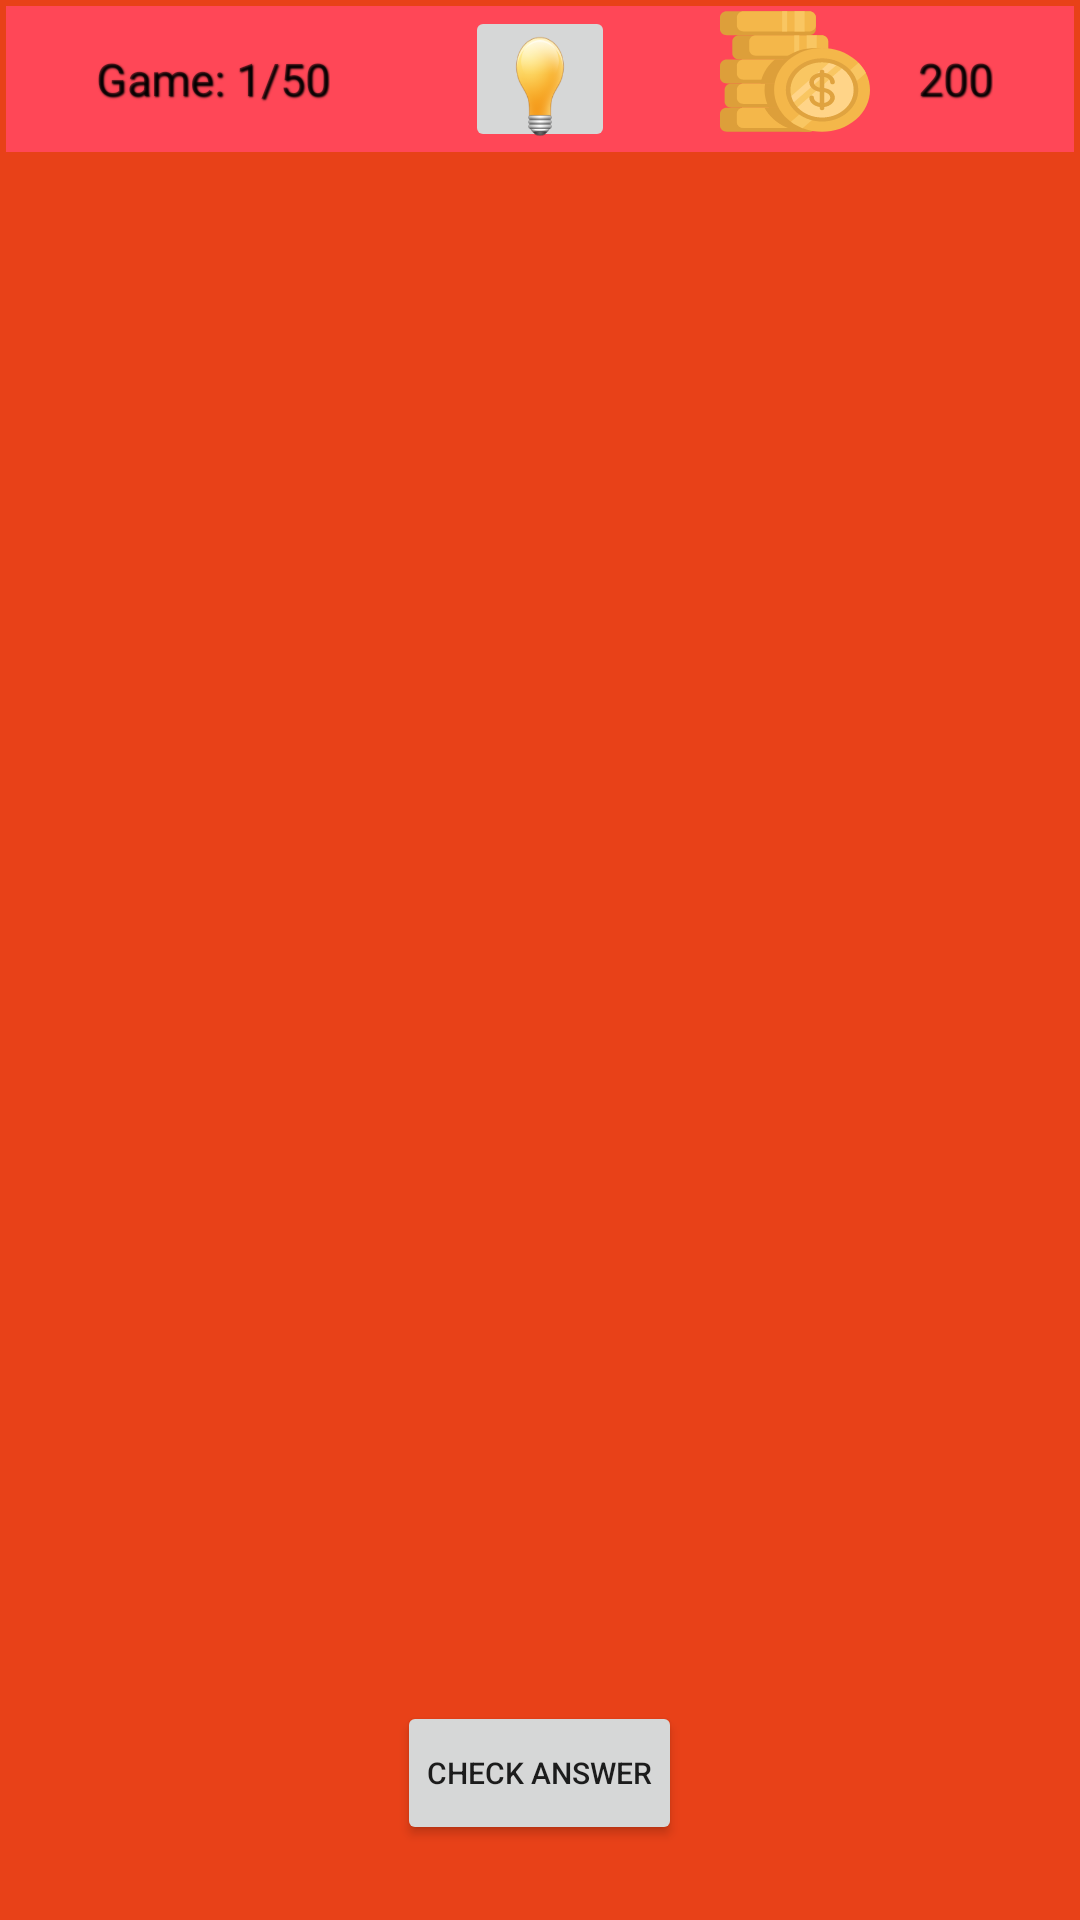

Icon click points for this 1080 x 1920 phone screenshot, format (x=x, y=y):
coins: (x=795, y=79)
tip: (x=540, y=80)
